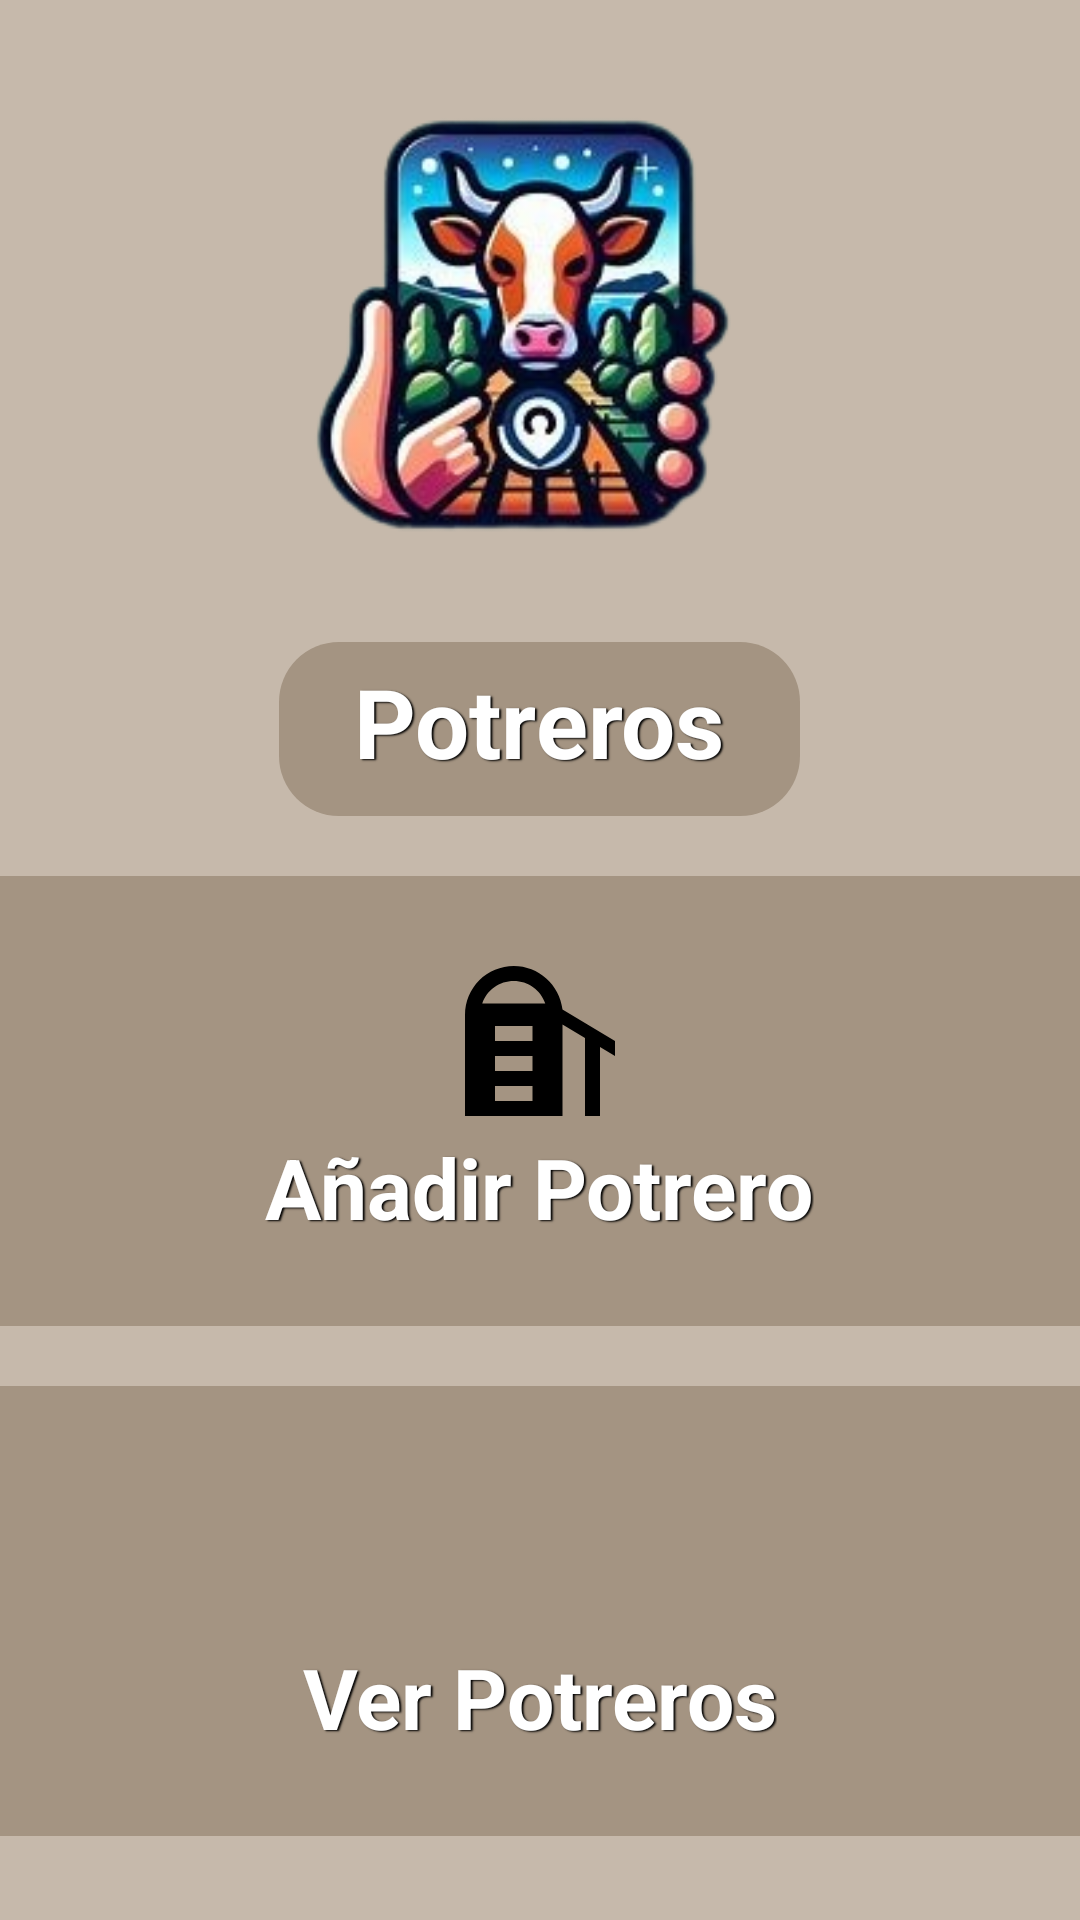

Screen size 1080px x 1920px. Icon name, then its center in pixels as point (x, y):
silo: point (540, 1041)
